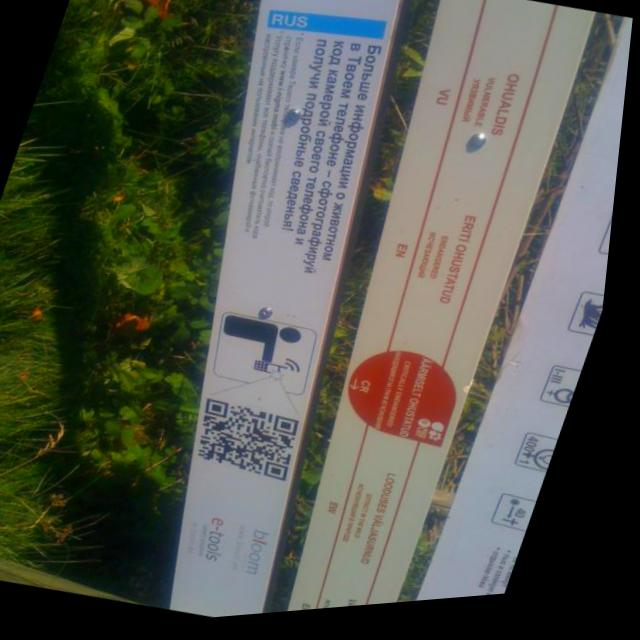qrcode: (193, 396, 320, 494)
